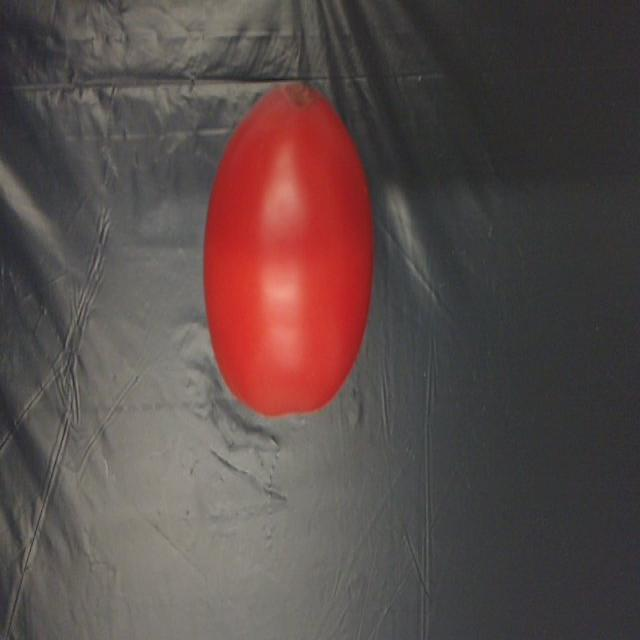kirmizi: (206, 59, 381, 431)
